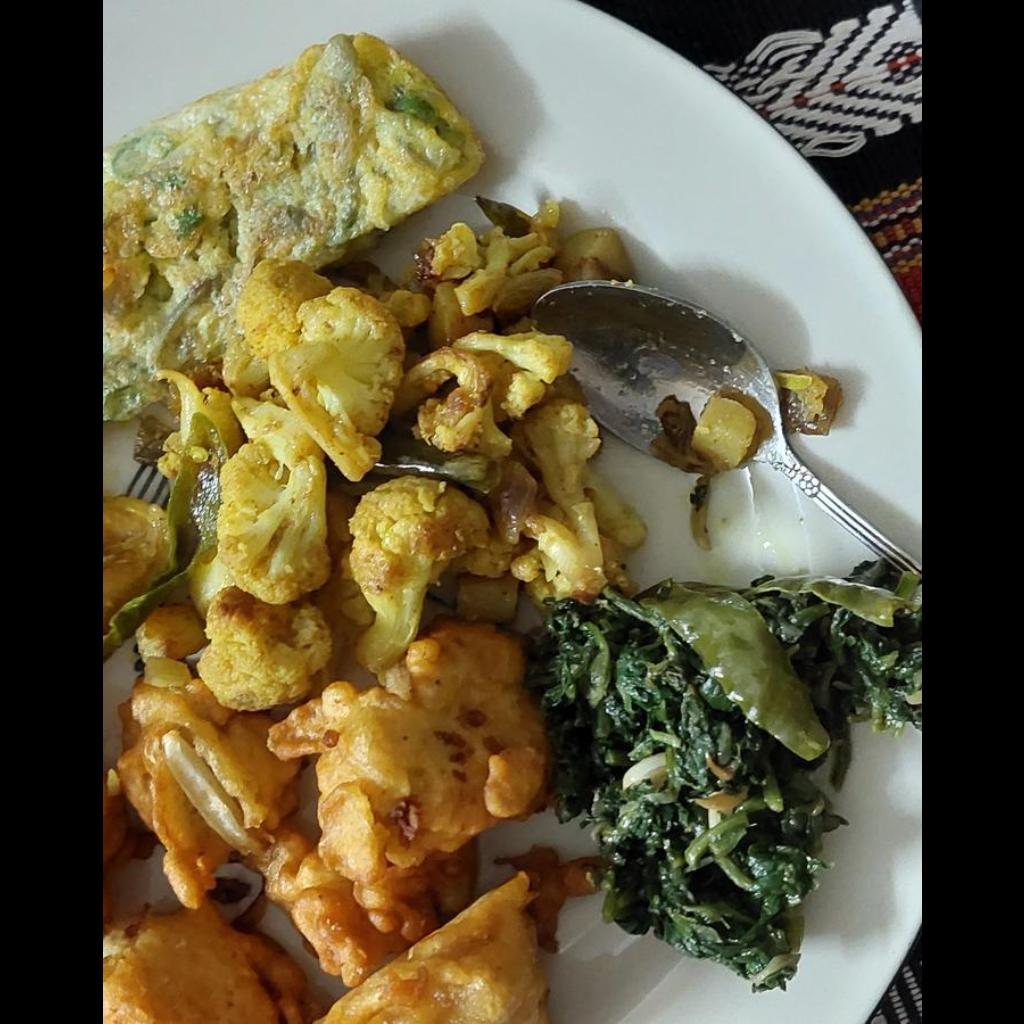cauliflower: (196, 201, 642, 710)
chop-alu: (102, 608, 590, 1023)
egg-poached: (102, 33, 484, 409)
shak: (541, 559, 920, 983)
